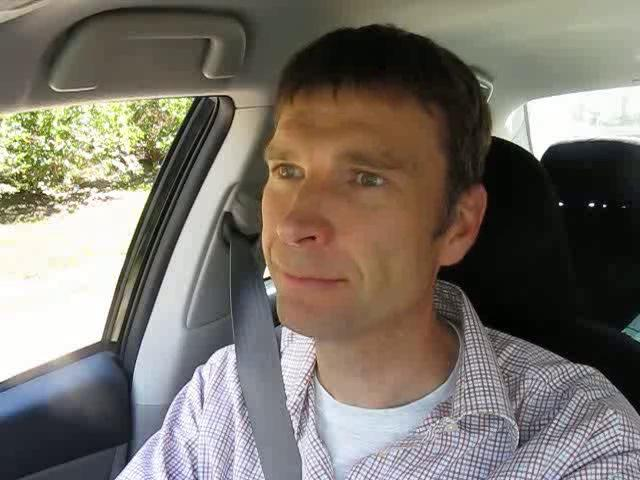no_yawn: (260, 253, 360, 308)
open_eyeL: (261, 159, 315, 191)
open_eyeR: (337, 161, 403, 199)
